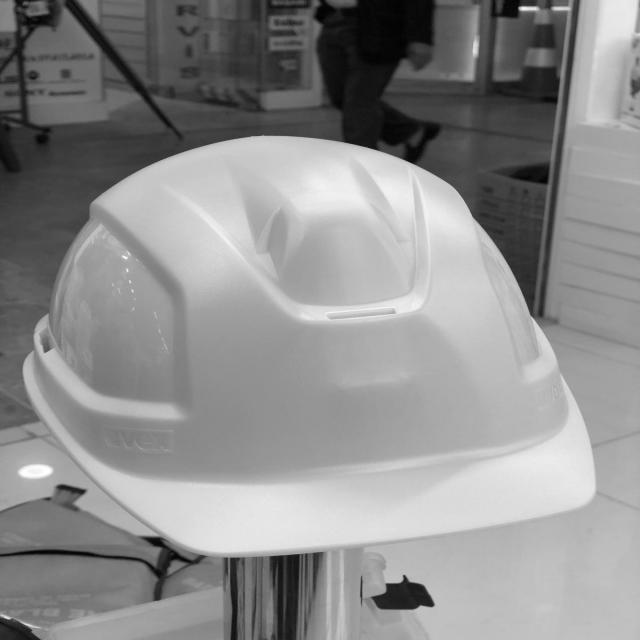safety_helmet: (20, 136, 598, 562)
